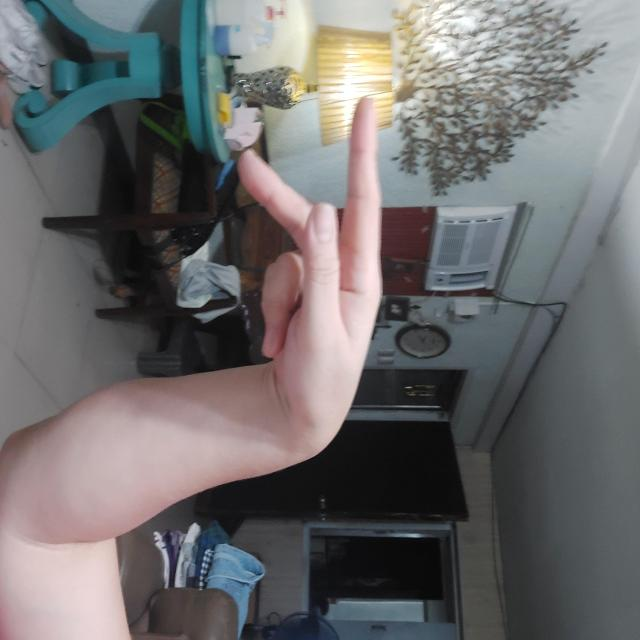P: (96, 258, 460, 404)
